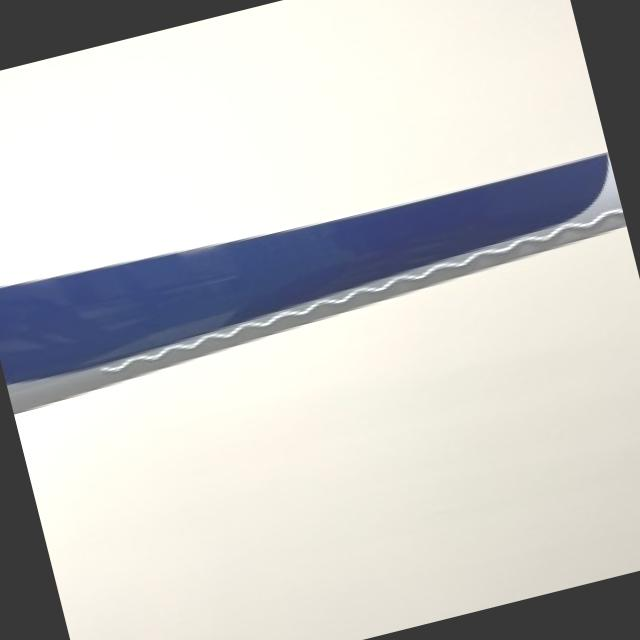healthy: (0, 154, 625, 409)
